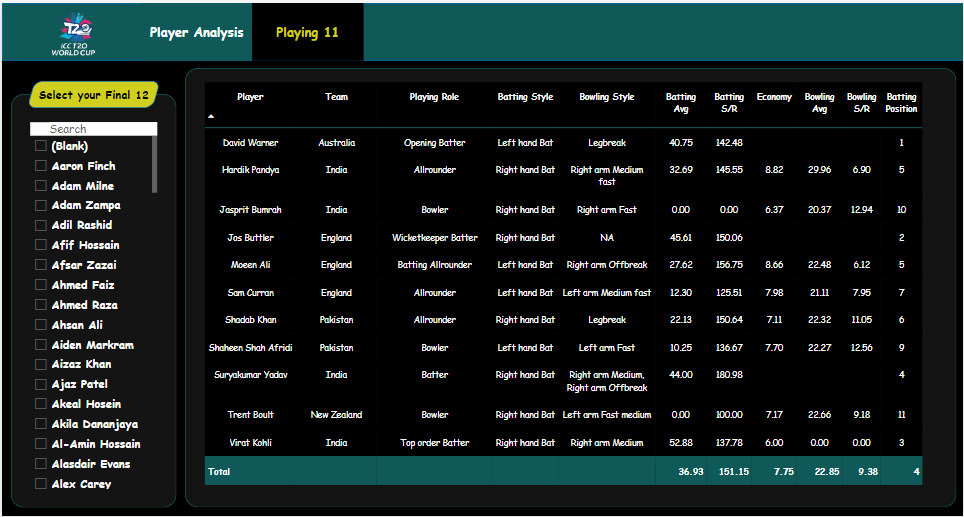

Layout of this report page (visuals, bound fields, positions):
{"tool":"powerbi","page":{"name":"Final 11","canvas":[1500,800],"ordinal":5},"visuals":[{"type":"shape","box":[0,0,1500,90],"z":0},{"type":"actionButton","box":[216.1,0,174.2,90.3],"z":1000},{"type":"actionButton","box":[390.3,0,174.2,90.3],"z":2000},{"type":"image","box":[64.5,6.5,95.2,83.9],"z":3000},{"type":"shape","box":[14.5,141.9,258.1,645.2],"z":4000},{"type":"shape","box":[285.5,101.6,1203.2,685.5],"z":5000},{"type":"shape","box":[38.7,121,208.1,41.9],"z":6000},{"type":"slicer","fields":{"Values":["playerinfo.Player"]},"box":[38.7,180.6,208.1,582.3],"z":7000},{"type":"tableEx","fields":{"Values":["playerinfo.Player","playerinfo.Team","playerinfo.Playing Role","playerinfo.Batting Style","playerinfo.Bowling Style","Batting Key Measures.Batting Avg","Batting Key Measures.Strike Rate","bowlinginfo.Economy","Bowling Key Measures.Bowling Average","bowlinginfo.Bowling Strike Rate","Batting Key Measures.Batting Position"]},"box":[309.7,117.7,1153.2,653.2],"z":8000}]}

Visuals, with their boxes in screenshot pixels (x1, y1, x2, y2), scaled from the page's 1500x800 canvas onto the 964x517 screenshot:
shape: crop(0, 0, 963, 58)
actionButton: crop(139, 0, 251, 58)
actionButton: crop(251, 0, 363, 58)
image: crop(41, 4, 103, 58)
shape: crop(9, 92, 175, 509)
shape: crop(183, 66, 957, 509)
shape: crop(25, 78, 159, 105)
slicer - playerinfo.Player: crop(25, 117, 159, 493)
tableEx - playerinfo.Player x playerinfo.Team: crop(199, 76, 940, 498)
